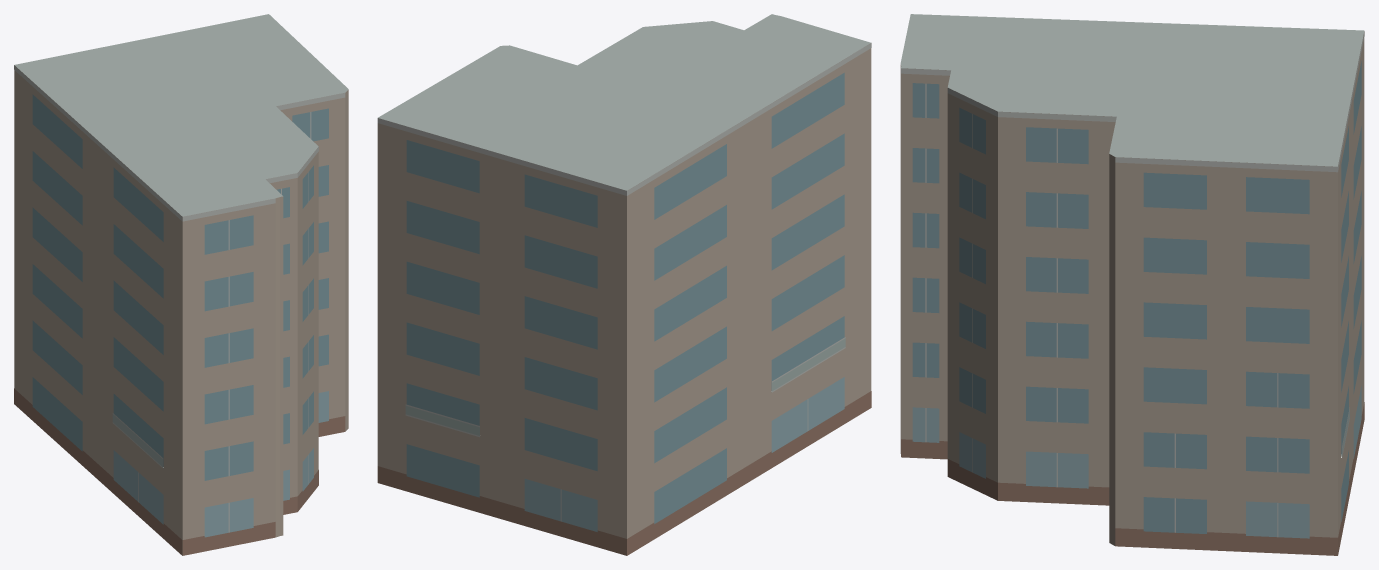
The model's file is survey-upis-32912750.glb.
The picture shows the model from 3 angles, left to right: view 1: azimuth 30°, elevation 25°; view 2: azimuth 150°, elevation 25°; view 3: azimuth 270°, elevation 25°; orthographic projection. The views are drawn at different scales.
Visible parts, largest first — view 1: survey-upis-32912750.tmp; view 2: survey-upis-32912750.tmp; view 3: survey-upis-32912750.tmp.
Part boxes in pixels (x1=…): survey-upis-32912750.tmp: x1=14, y1=14, x2=348, y2=555; survey-upis-32912750.tmp: x1=377, y1=14, x2=871, y2=555; survey-upis-32912750.tmp: x1=900, y1=14, x2=1364, y2=555.
Bounding box in the file's own units: 14.38 × 17.08 × 18.47.
